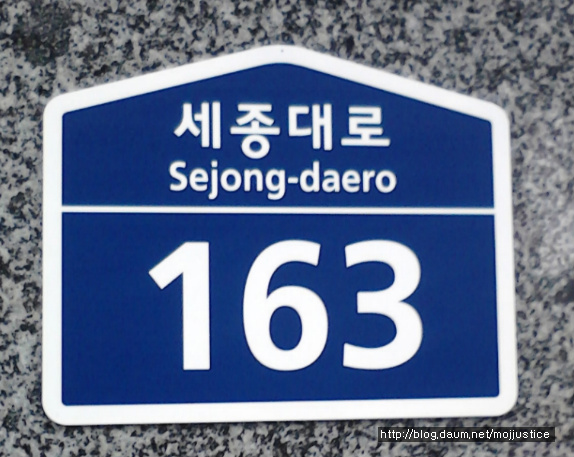building_license_plate1: (42, 43, 520, 425)
